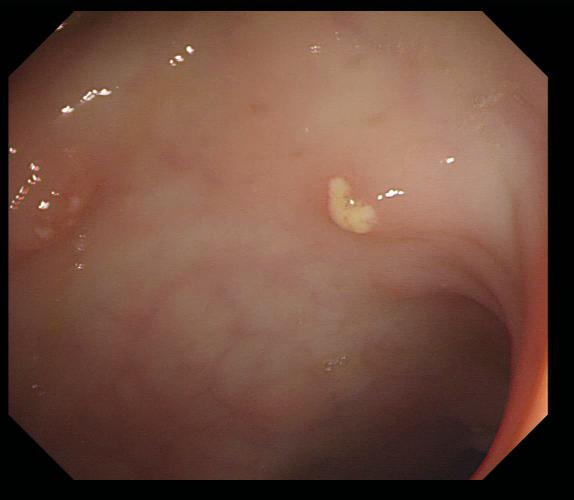polyp: (14, 175, 96, 248), (319, 171, 380, 236)
